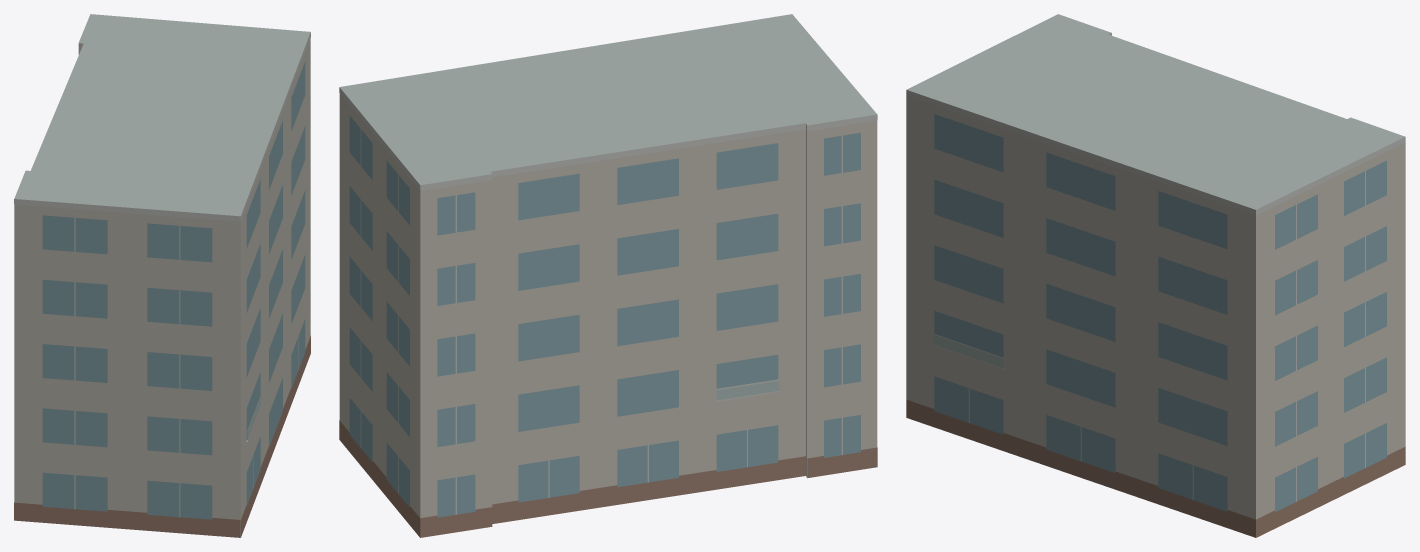
File: survey-upis-32883678.glb
3 views of the same model, side by side, from view 1: azimuth 30°, elevation 25°; view 2: azimuth 150°, elevation 25°; view 3: azimuth 270°, elevation 25° (orthographic). The views are drawn at different scales.
Parts seen in each view (by area): view 1: survey-upis-32883678.tmp; view 2: survey-upis-32883678.tmp; view 3: survey-upis-32883678.tmp.
Boxes of the visible parts, left/top/right/bottom form: survey-upis-32883678.tmp: left=14, top=14, right=310, bottom=537; survey-upis-32883678.tmp: left=339, top=14, right=877, bottom=537; survey-upis-32883678.tmp: left=906, top=14, right=1405, bottom=537.
Bounding box in the file's own units: 18.45 × 14.4 × 19.87.
